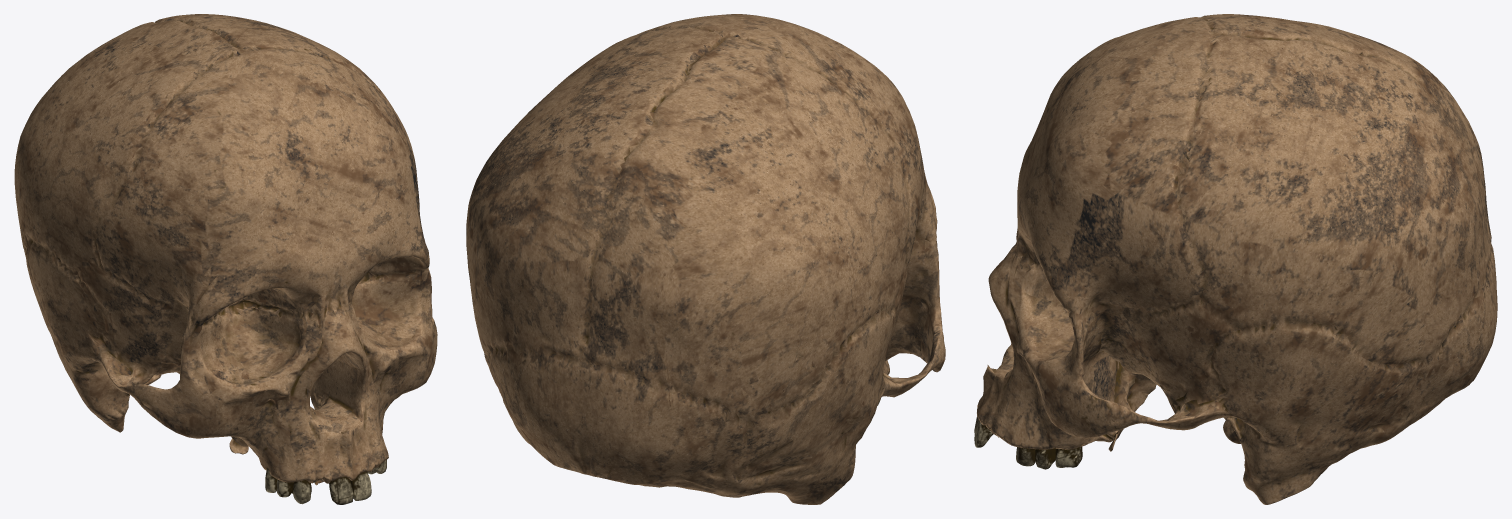
Rendered from Scull.fbx.
3 views of the same model, side by side, from view 1: azimuth 30°, elevation 25°; view 2: azimuth 150°, elevation 25°; view 3: azimuth 270°, elevation 25° (orthographic). The views are drawn at different scales.
Parts seen in each view (by area): view 1: scull, teeth; view 2: scull; view 3: scull, teeth.
Boxes of the visible parts, x1=… form: scull: x1=14, y1=14, x2=437, y2=485; teeth: x1=265, y1=460, x2=386, y2=504; scull: x1=466, y1=14, x2=945, y2=504; scull: x1=977, y1=14, x2=1497, y2=504; teeth: x1=974, y1=417, x2=1082, y2=469.
Size of the model in its own units: 3048 by 3272 by 3802.
